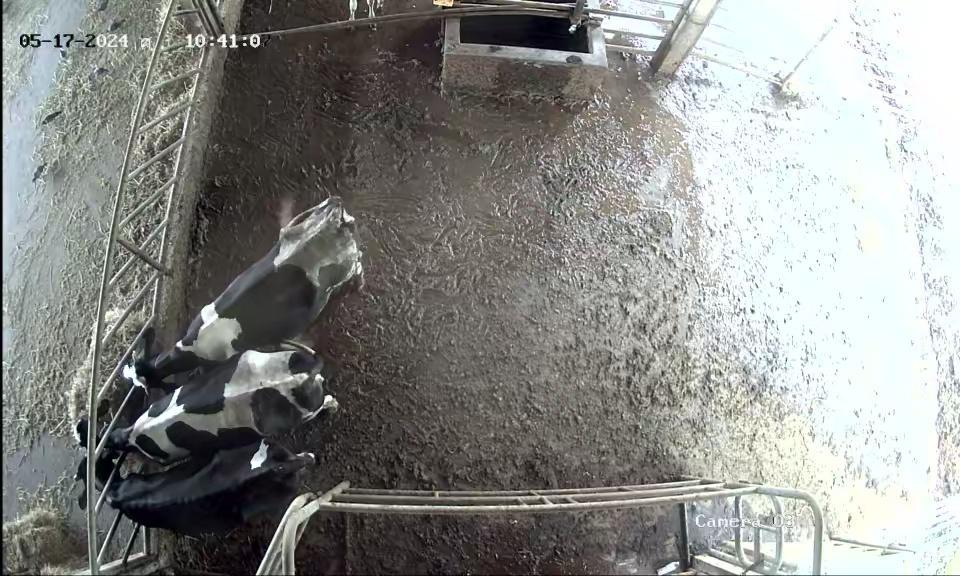eat: (72, 338, 171, 397), (64, 402, 152, 466), (62, 449, 147, 511)
